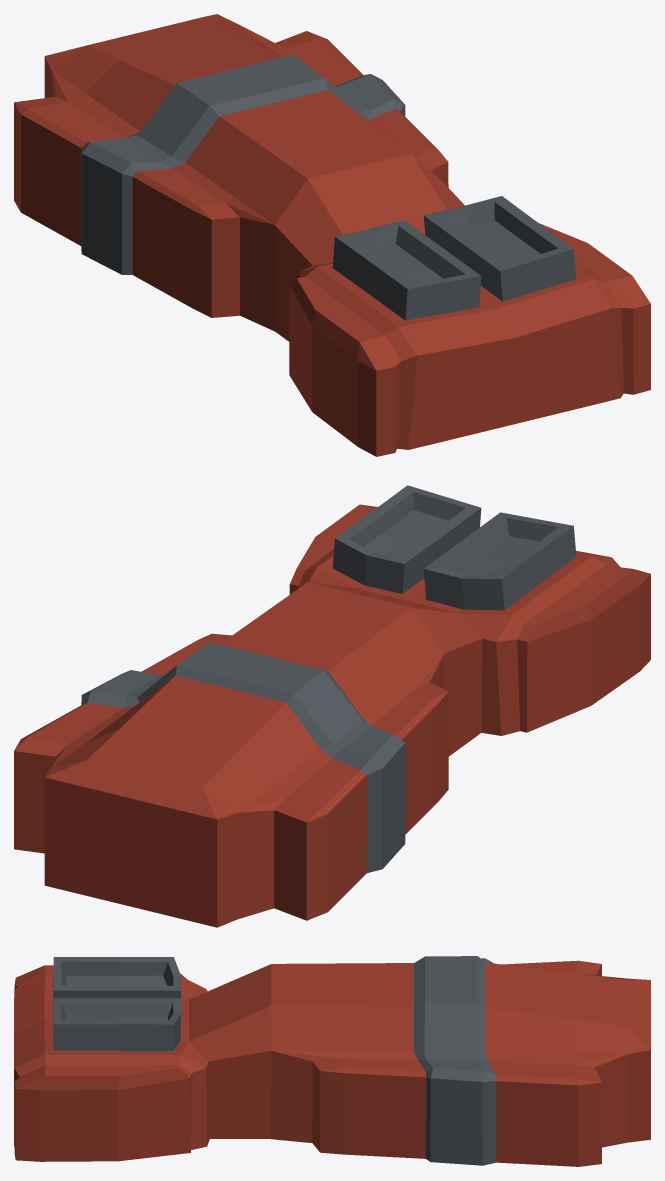
File: Fighter_10_Hatch_Red.fbx
3 views of the same model, one above another, from view 1: azimuth 30°, elevation 25°; view 2: azimuth 150°, elevation 25°; view 3: azimuth 270°, elevation 25° (orthographic). The views are drawn at different scales.
Visible parts, largest first — view 1: Fighter_10_Hatch_Red; view 2: Fighter_10_Hatch_Red; view 3: Fighter_10_Hatch_Red.
Part boxes in pixels (x1=…): Fighter_10_Hatch_Red: x1=14, y1=14, x2=650, y2=456; Fighter_10_Hatch_Red: x1=14, y1=485, x2=650, y2=927; Fighter_10_Hatch_Red: x1=14, y1=956, x2=650, y2=1166.
Size of the model in its own units: 341 by 160 by 737.
Materials: 1 (1 with a texture image).
